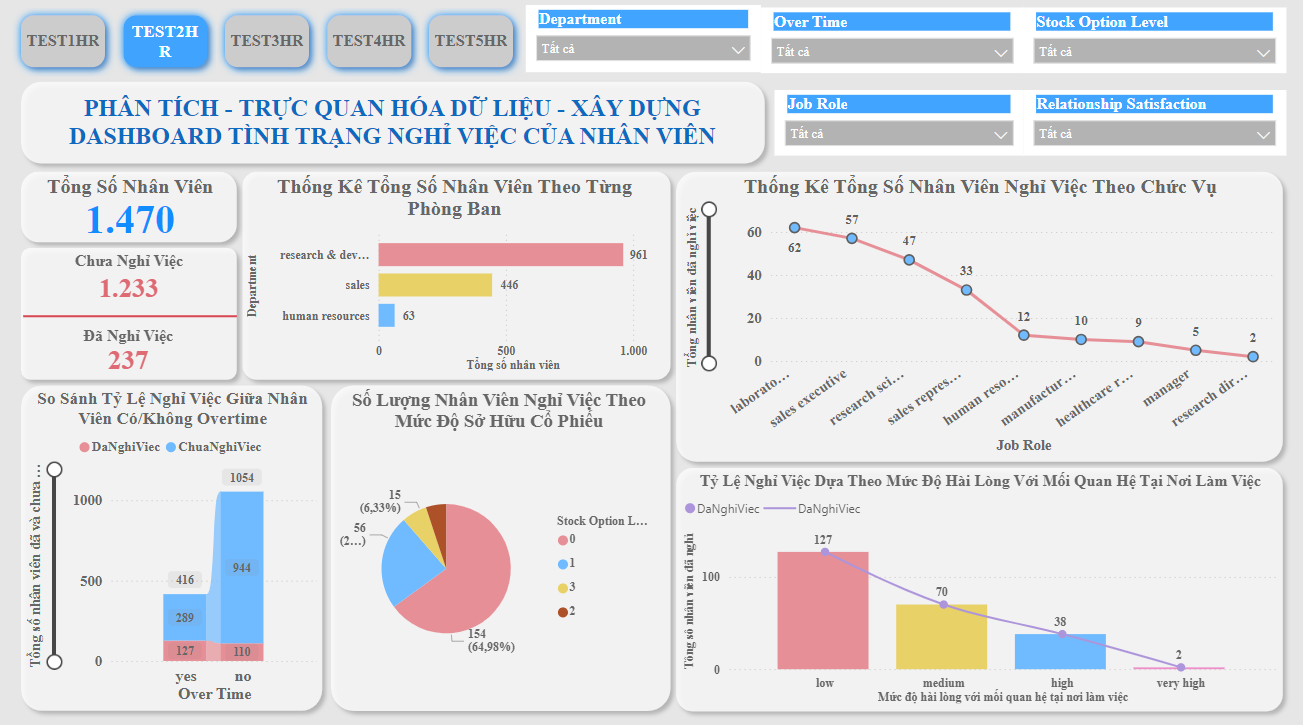

Layout of this report page (visuals, bound fields, positions):
{"tool":"powerbi","page":{"name":"TEST2HR","canvas":[1280,720],"ordinal":1},"visuals":[{"type":"shape","box":[221.2,162.5,446.2,226.2],"z":0},{"type":"shape","box":[655.4,162.6,624.9,308.2],"z":1000},{"type":"shape","box":[0,376.6,319.2,343.6],"z":2000},{"type":"shape","box":[655.4,458.6,624.9,261.7],"z":3000},{"type":"clusteredBarChart","title":"Thống Kê Tổng Số Nhân Viên Theo Từng Phòng Ban","fields":{"Category":["Employee-turnover (3).Department"],"Y":["All Measures.Total Emp"]},"box":[230,175,425,201.2],"z":4000},{"type":"shape","box":[0,72.8,761.7,100],"z":5000},{"type":"textbox","box":[23.4,89.6,712.8,67.5],"z":6000},{"type":"lineChart","title":"Thống Kê Tổng Số Nhân Viên Nghỉ Việc Theo Chức Vụ","fields":{"Y":["All Measures.DaNghiViec"],"Category":["Employee-turnover (3).Job Role"]},"box":[667.7,174.9,601.6,283.7],"z":7000},{"type":"columnChart","title":"So Sánh Tỷ Lệ Nghỉ Việc Giữa Nhân Viên Có/Không Overtime","fields":{"Category":["Employee-turnover (3).Over Time"],"Y":["All Measures.DaNghiViec","All Measures.ChuaNghiViec"]},"box":[11.2,388.8,298.8,318.8],"z":8000},{"type":"shape","box":[310,376.2,357.5,343.8],"z":9000},{"type":"pieChart","title":"Số Lượng Nhân Viên Nghỉ Việc Theo Mức Độ Sở Hữu Cổ Phiếu","fields":{"Category":["Employee-turnover (3).Stock Option Level"],"Y":["All Measures.DaNghiViec"]},"box":[318.8,388.8,336.2,318.8],"z":10000},{"type":"lineStackedColumnComboChart","title":"Tỷ Lệ Nghỉ Việc Dựa Theo Mức Độ Hài Lòng Với Mối Quan Hệ Tại Nơi Làm Việc","fields":{"Category":["Employee-turnover (3).Relationship Satisfaction"],"Y":["All Measures.DaNghiViec"],"Y2":["All Measures.DaNghiViec"]},"box":[667.7,470.8,601.6,237.2],"z":11000},{"type":"pageNavigator","box":[0,6.5,512.9,70.1],"z":12000},{"type":"shape","box":[0,162.5,233.8,88.8],"z":13000},{"type":"card","title":"Tổng Số Nhân Viên","fields":{"Values":["All Measures.Total Emp"]},"box":[10,175,216.2,63.8],"z":14000},{"type":"shape","box":[0,238.8,233.8,150],"z":15000},{"type":"card","title":"Chưa Nghỉ Việc","fields":{"Values":["All Measures.ChuaNghiViec"]},"box":[12.5,251.2,208.8,56.2],"z":16000},{"type":"card","title":"Đã Nghỉ Việc","fields":{"Values":["All Measures.DaNghiViec"]},"box":[11.2,326.2,210,50],"z":17000},{"type":"shape","box":[11.2,310,213.8,12.5],"z":18000},{"type":"slicer","fields":{"Values":["Employee-turnover (3).Department"]},"box":[513.4,5.6,235,67.1],"z":19000},{"type":"slicer","fields":{"Values":["Employee-turnover (3).Over Time"]},"box":[748.4,7,263,65.7],"z":20000},{"type":"slicer","fields":{"Values":["Employee-turnover (3).Stock Option Level"]},"box":[1011.4,7,263,65.7],"z":21000},{"type":"slicer","fields":{"Values":["Employee-turnover (3).Relationship Satisfaction"]},"box":[1011.4,89.5,263,65.7],"z":22000},{"type":"slicer","fields":{"Values":["Employee-turnover (3).Job Role"]},"box":[762.4,89.5,249,65.7],"z":23000}]}

Visuals, with their boxes in screenshot pixels (x1, y1, x2, y2), scaled from the page's 1280x720 canvas onto the 1303x725 screenshot:
shape: l=225, t=164, r=679, b=391
shape: l=667, t=164, r=1302, b=474
shape: l=0, t=379, r=325, b=724
shape: l=667, t=462, r=1302, b=724
"Thống Kê Tổng Số Nhân Viên Theo Từng Phòng Ban" clusteredBarChart: l=234, t=176, r=667, b=379
shape: l=0, t=73, r=775, b=174
textbox: l=24, t=90, r=749, b=158
"Thống Kê Tổng Số Nhân Viên Nghỉ Việc Theo Chức Vụ" lineChart: l=680, t=176, r=1292, b=462
"So Sánh Tỷ Lệ Nghỉ Việc Giữa Nhân Viên Có/Không Overtime" columnChart: l=11, t=392, r=316, b=713
shape: l=316, t=379, r=679, b=724
"Số Lượng Nhân Viên Nghỉ Việc Theo Mức Độ Sở Hữu Cổ Phiếu" pieChart: l=325, t=392, r=667, b=713
"Tỷ Lệ Nghỉ Việc Dựa Theo Mức Độ Hài Lòng Với Mối Quan Hệ Tại Nơi Làm Việc" lineStackedColumnComboChart: l=680, t=474, r=1292, b=713
pageNavigator: l=0, t=7, r=522, b=77
shape: l=0, t=164, r=238, b=253
"Tổng Số Nhân Viên" card: l=10, t=176, r=230, b=240
shape: l=0, t=240, r=238, b=392
"Chưa Nghỉ Việc" card: l=13, t=253, r=225, b=310
"Đã Nghỉ Việc" card: l=11, t=328, r=225, b=379
shape: l=11, t=312, r=229, b=325
slicer - Employee-turnover (3).Department: l=523, t=6, r=762, b=73
slicer - Employee-turnover (3).Over Time: l=762, t=7, r=1030, b=73
slicer - Employee-turnover (3).Stock Option Level: l=1030, t=7, r=1297, b=73
slicer - Employee-turnover (3).Relationship Satisfaction: l=1030, t=90, r=1297, b=156
slicer - Employee-turnover (3).Job Role: l=776, t=90, r=1030, b=156
